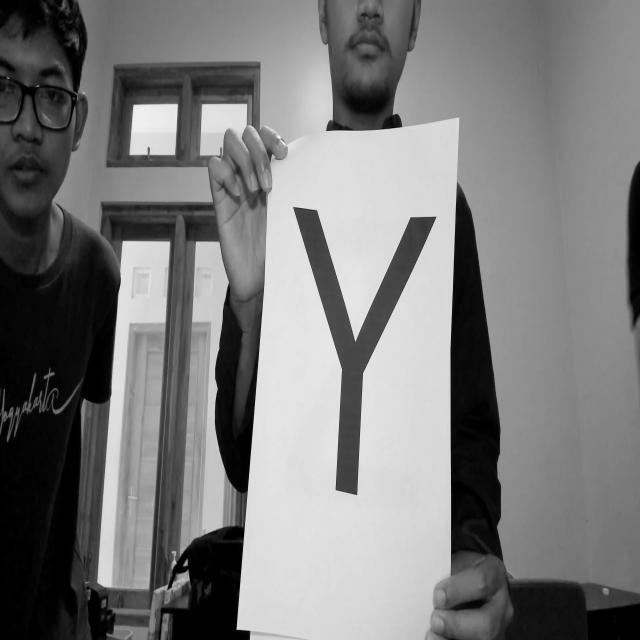y: (286, 187, 450, 518)
